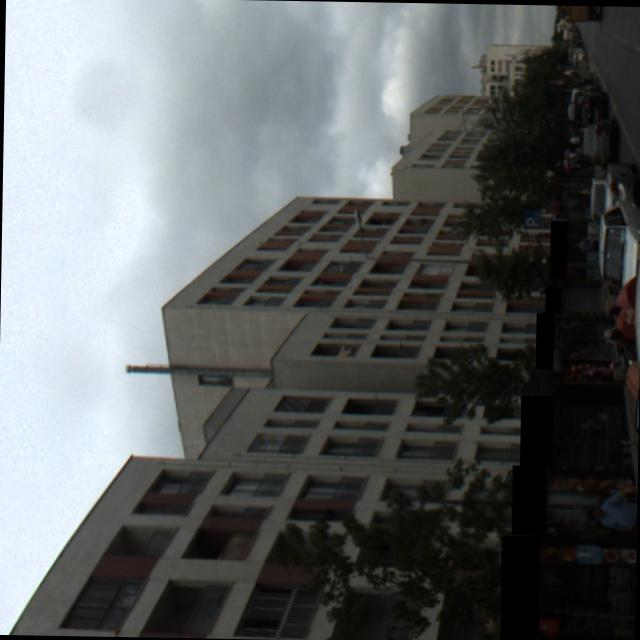SignStore: (501, 535, 539, 640), (511, 464, 547, 533), (520, 395, 553, 465), (536, 312, 554, 368), (550, 219, 567, 277), (545, 285, 561, 312)
